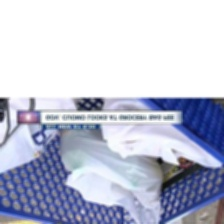plastic_bag: (52, 117, 165, 223), (95, 97, 224, 171), (0, 97, 83, 180)
